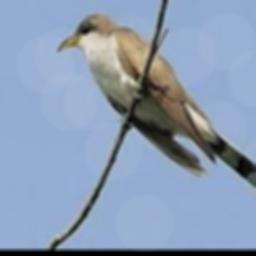Cuckoo: (59, 14, 256, 203)
